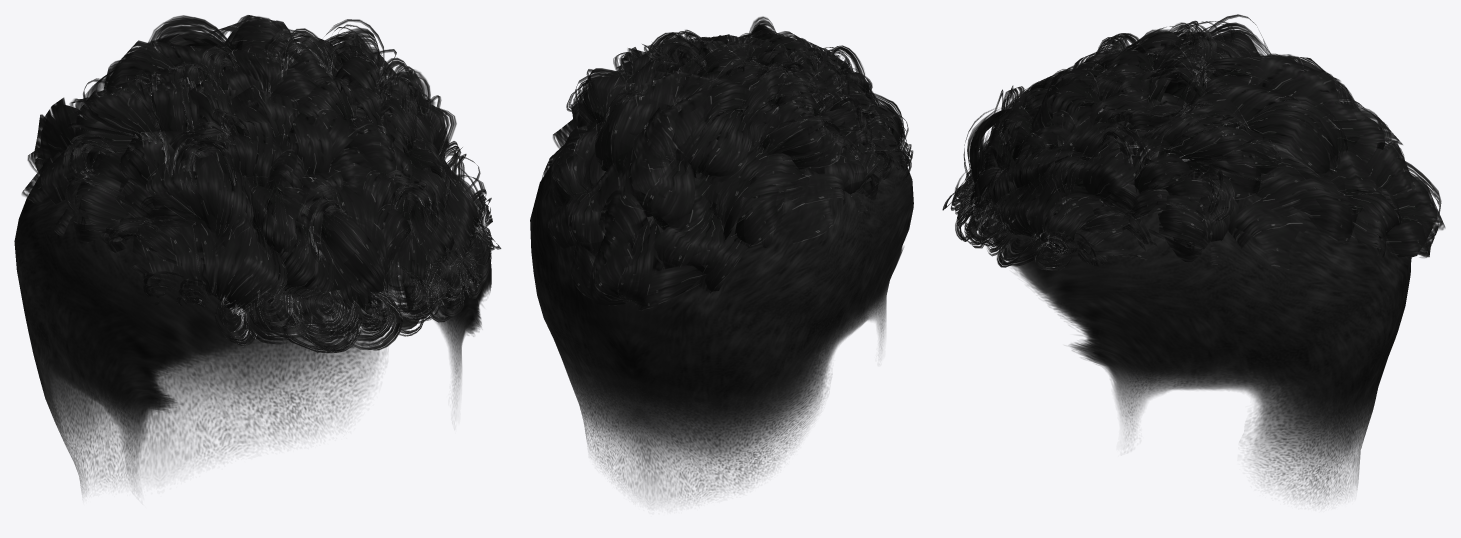
Rendered from CurlyUndercut.glb.
3 views of the same model, side by side, from view 1: azimuth 30°, elevation 25°; view 2: azimuth 150°, elevation 25°; view 3: azimuth 270°, elevation 25° (orthographic). The views are drawn at different scales.
Visible parts, largest first — view 1: CURLY_UNDERCUT, Scalp FRINGE; view 2: CURLY_UNDERCUT, Scalp FRINGE; view 3: CURLY_UNDERCUT, Scalp FRINGE.
Part boxes in pixels (x1,y1,x2,y2): CURLY_UNDERCUT: (21,15,501,353); Scalp FRINGE: (14,104,491,494); CURLY_UNDERCUT: (542,16,913,310); Scalp FRINGE: (530,83,913,502); CURLY_UNDERCUT: (942,14,1445,270); Scalp FRINGE: (980,96,1411,504).
Size of the model in its own units: 0.1986 by 0.2626 by 0.2618.
2 materials, 2 textured.
